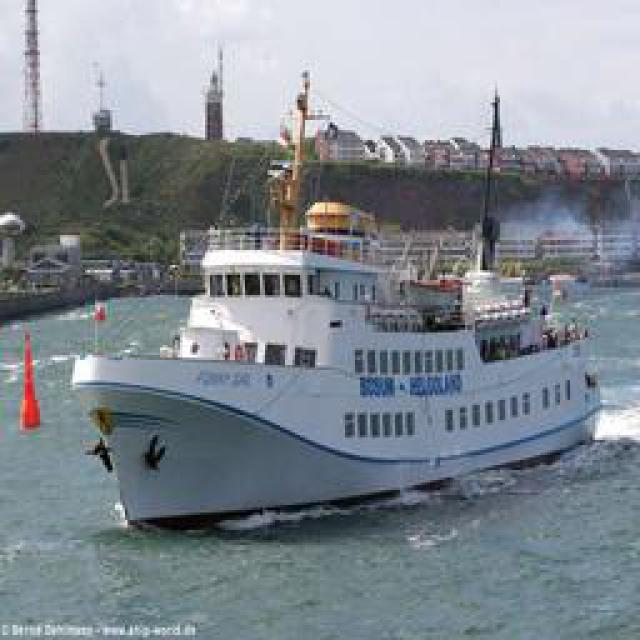Ship: (80, 115, 610, 528)
